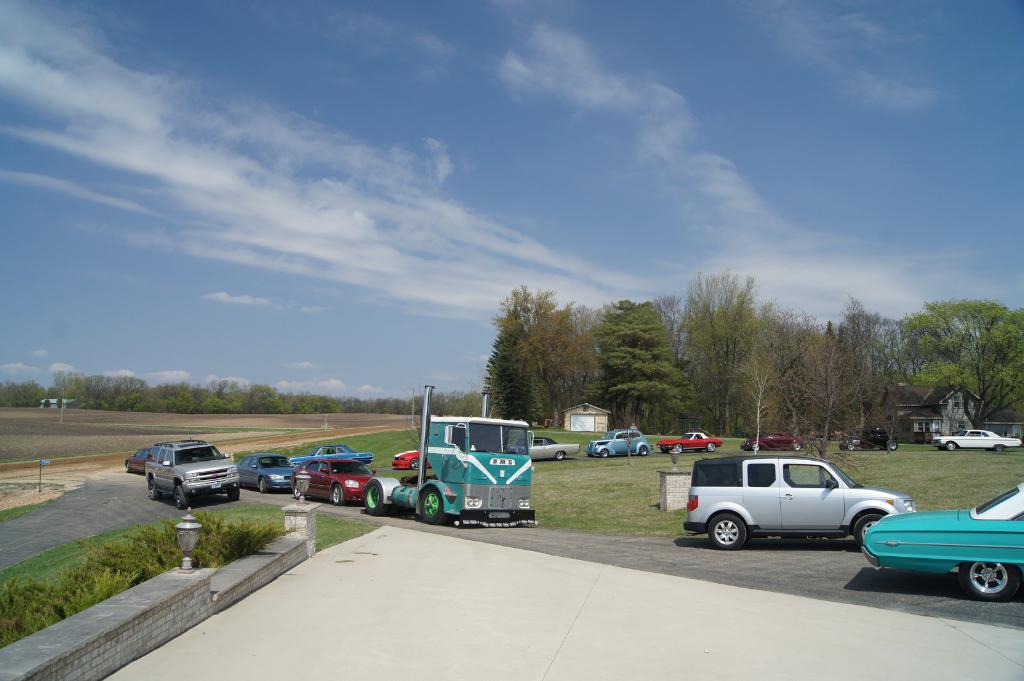Car: (683, 454, 915, 549), (861, 485, 1023, 601), (146, 444, 240, 508), (295, 464, 376, 506), (236, 451, 291, 492), (932, 428, 1022, 453), (287, 444, 373, 469), (589, 429, 650, 455), (837, 425, 897, 451), (660, 433, 723, 455), (740, 433, 799, 455), (534, 433, 579, 461), (391, 448, 432, 469), (122, 448, 152, 472), (394, 453, 417, 472)
